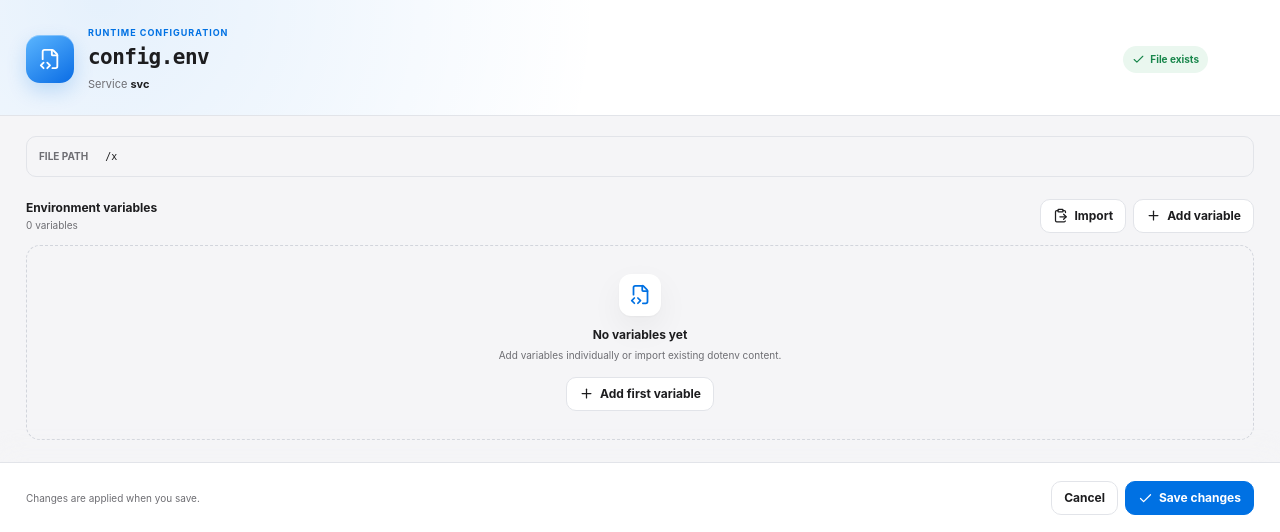
Test: Env modal (row editor) › blocks duplicate variable names before saving
This screenshot has width=1280, height=532.
Click the button "Add variable" at x=1194, y=216, box [1133, 198, 1254, 232]
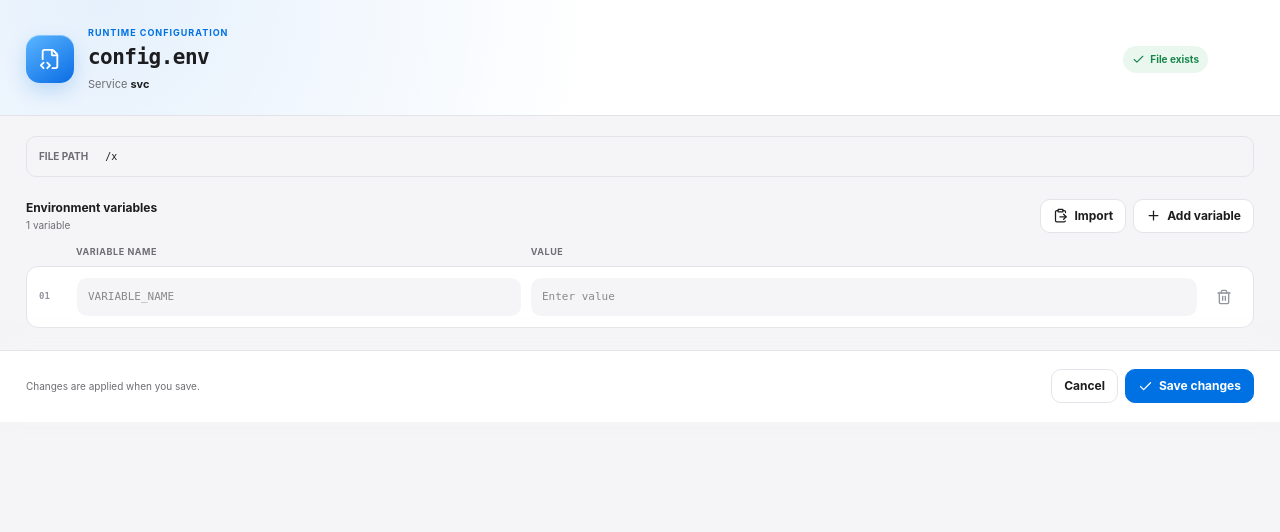
Click the button "Add variable" at x=1194, y=216, box [1133, 198, 1254, 232]
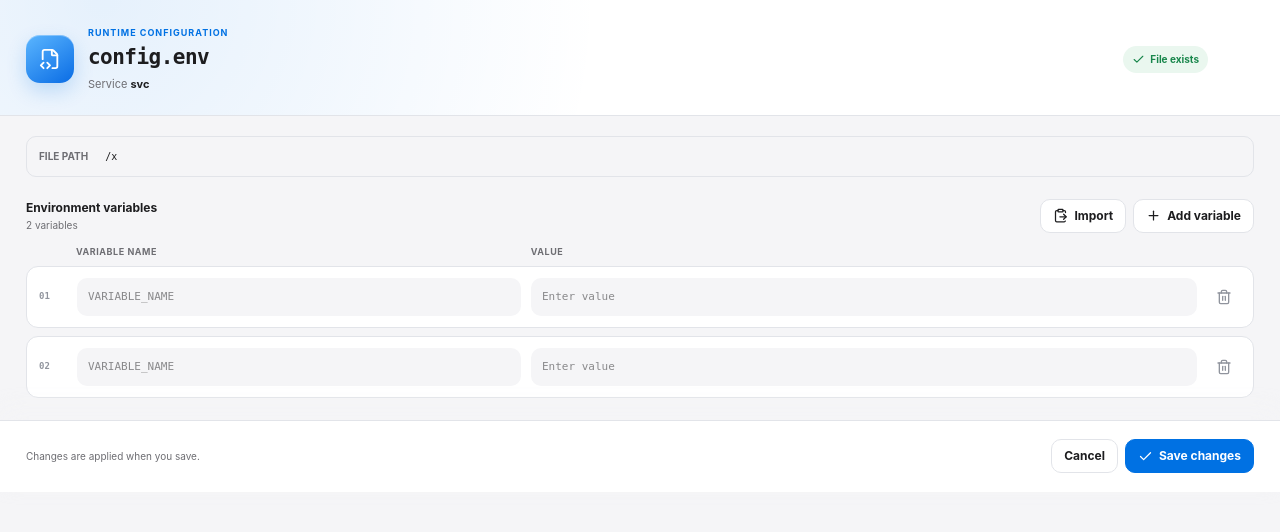
Type "PORT" into the field named "key 0" at x=299, y=297, box [77, 278, 521, 316]
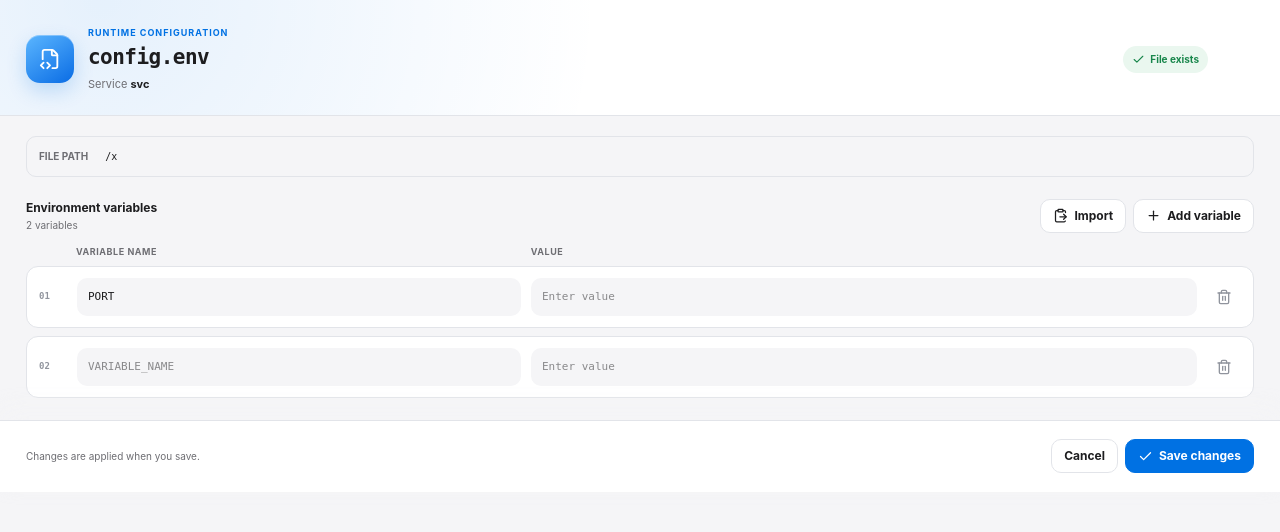
Type "PORT" into the field named "key 1" at x=299, y=367, box [77, 348, 521, 386]
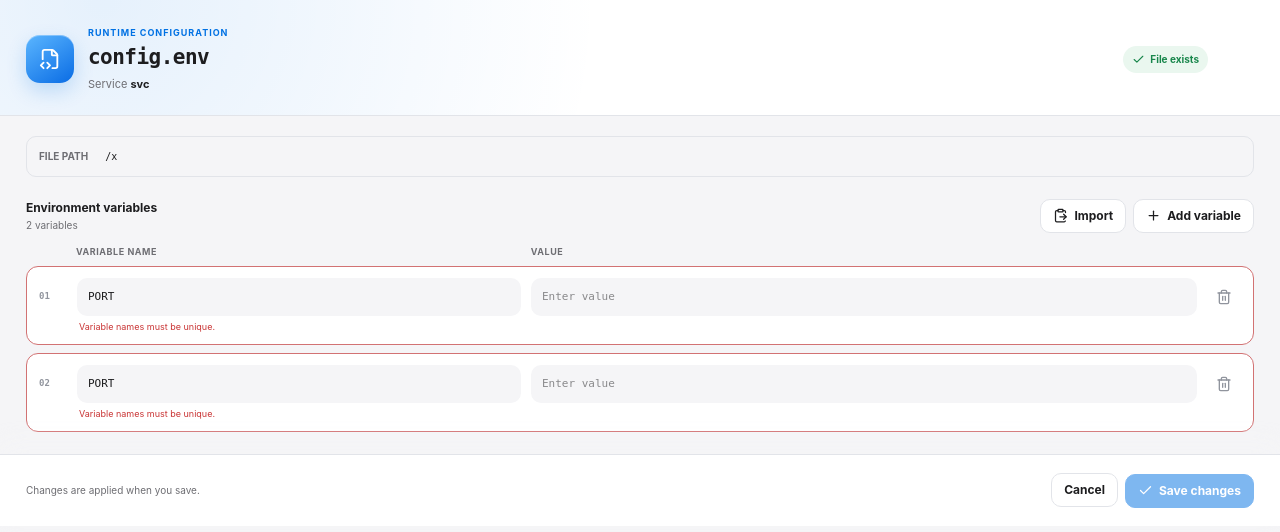
Check: the text "Variable names must be unique." is shown 2 times, box [79, 321, 215, 332]; [79, 408, 215, 419]
Check: the button "Save changes" is disabled, box [1125, 474, 1254, 508]
